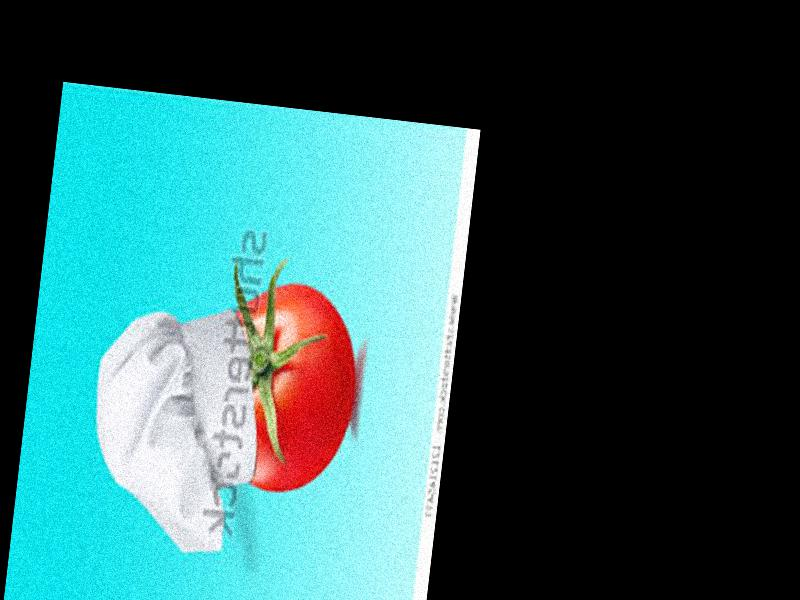Tomato: (215, 280, 363, 499)
